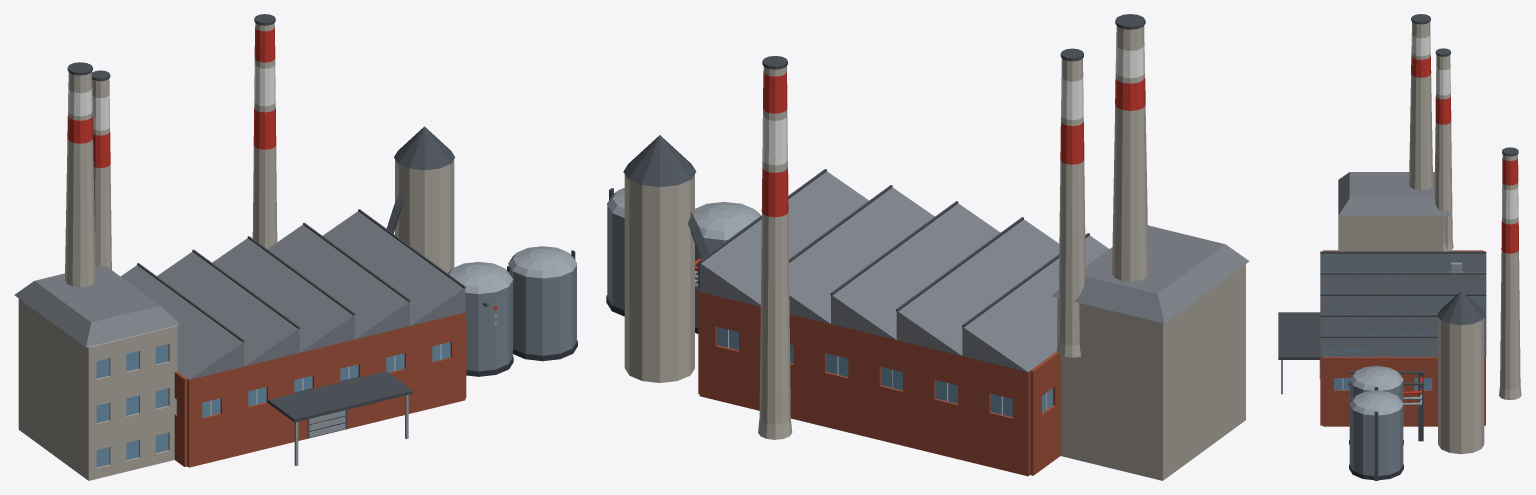
File: BUILDING_16.obj
The picture shows the model from 3 angles, left to right: view 1: azimuth 30°, elevation 25°; view 2: azimuth 150°, elevation 25°; view 3: azimuth 270°, elevation 25°; orthographic projection. The views are drawn at different scales.
Visible parts, largest first — view 1: sawtooth_roof, walls_floor00, tanks, boiler_house, boiler_roof, silo, stack_A, stack_C, walls_floor02, shed, stack_B, walls_floor01 (+4 smaller); view 2: sawtooth_roof, walls_floor00, boiler_house, silo, stack_C, boiler_roof, stack_A, stack_B, tanks, windows_floor00; view 3: sawtooth_roof, silo, sawtooth_glass, tanks, stack_C, walls_floor00, boiler_roof, stack_A, boiler_house, stack_B, shed, pipe_rack (+1 smaller).
Part boxes in pixels (x1,y1,x2,y2): sawtooth_roof: (121, 209, 465, 379); walls_floor00: (87, 310, 466, 480); tanks: (448, 246, 577, 376); boiler_house: (18, 299, 86, 479); boiler_roof: (14, 266, 180, 347); silo: (394, 126, 455, 273); stack_A: (65, 62, 95, 287); stack_C: (252, 14, 277, 248); walls_floor02: (87, 325, 177, 407); shed: (268, 371, 412, 465); stack_B: (92, 70, 111, 269); walls_floor01: (87, 387, 176, 451); sawtooth_roof: (699, 169, 1109, 371); walls_floor00: (698, 289, 1245, 476); boiler_house: (1057, 265, 1244, 480); silo: (623, 135, 696, 382); stack_C: (758, 56, 792, 439); boiler_roof: (1052, 225, 1249, 323); stack_A: (1112, 14, 1148, 281); stack_B: (1057, 48, 1085, 357); tanks: (606, 188, 760, 333); windows_floor00: (716, 327, 1052, 417); sawtooth_roof: (1320, 251, 1486, 356); silo: (1437, 291, 1484, 454); sawtooth_glass: (1323, 253, 1483, 356); tanks: (1349, 366, 1403, 480); stack_C: (1499, 147, 1521, 400); walls_floor00: (1320, 250, 1485, 426); boiler_roof: (1338, 172, 1450, 215); stack_A: (1409, 14, 1433, 190); boiler_house: (1341, 216, 1447, 251); stack_B: (1434, 48, 1453, 251); shed: (1278, 312, 1320, 394); pipe_rack: (1348, 371, 1424, 441).
Bounding box in the file's own units: 52 × 35.25 × 27.27.
